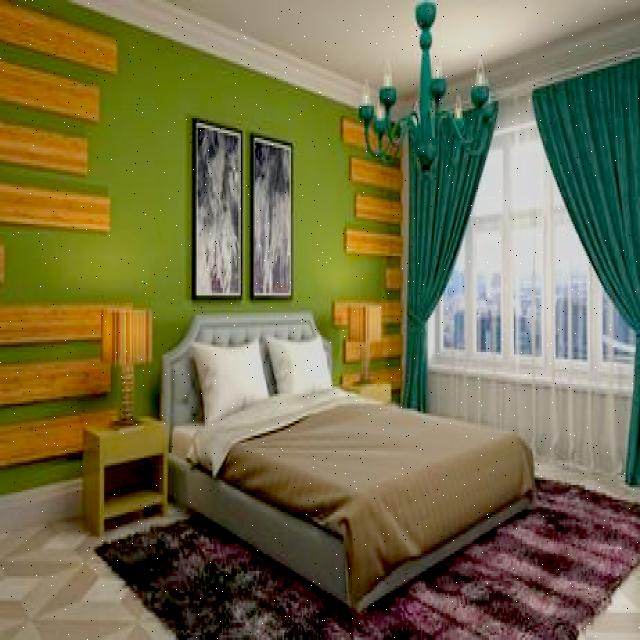bed: (165, 312, 531, 578)
